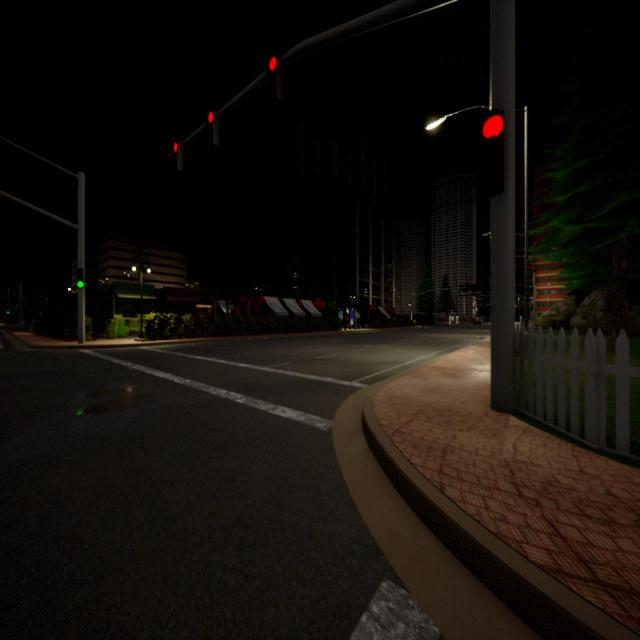Vehicle: (472, 316, 482, 326)
traffic_light: (480, 110, 504, 197), (267, 56, 281, 100), (207, 110, 219, 147), (172, 141, 183, 173), (77, 268, 84, 289), (6, 311, 10, 313)
